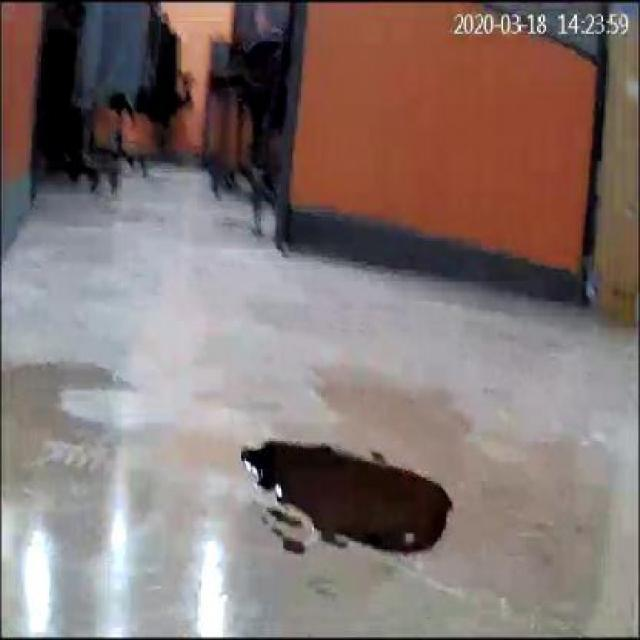spill: (244, 440, 451, 556)
